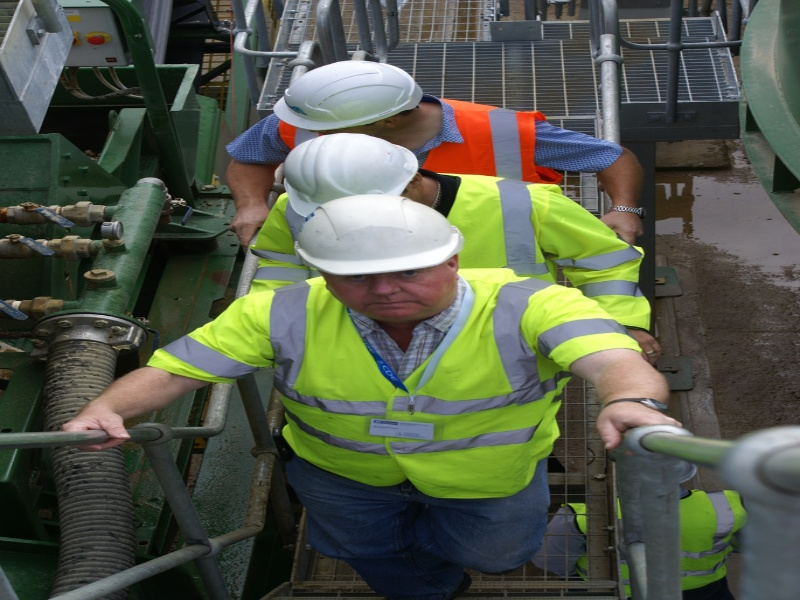Baret: (295, 195, 463, 276), (272, 60, 425, 131), (285, 133, 420, 200)
